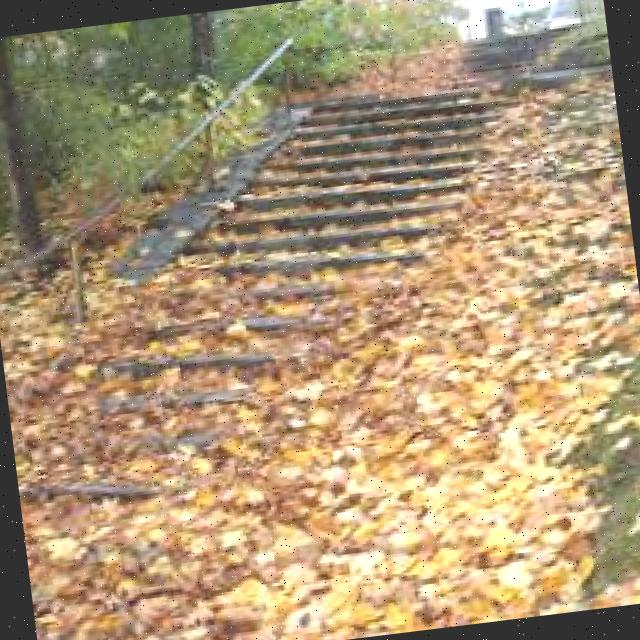stairs: (0, 1, 580, 562)
